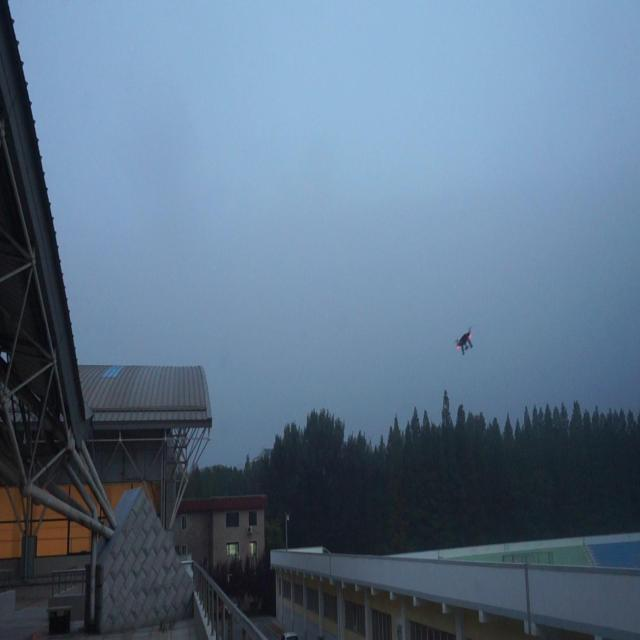drone: (455, 328, 476, 356)
